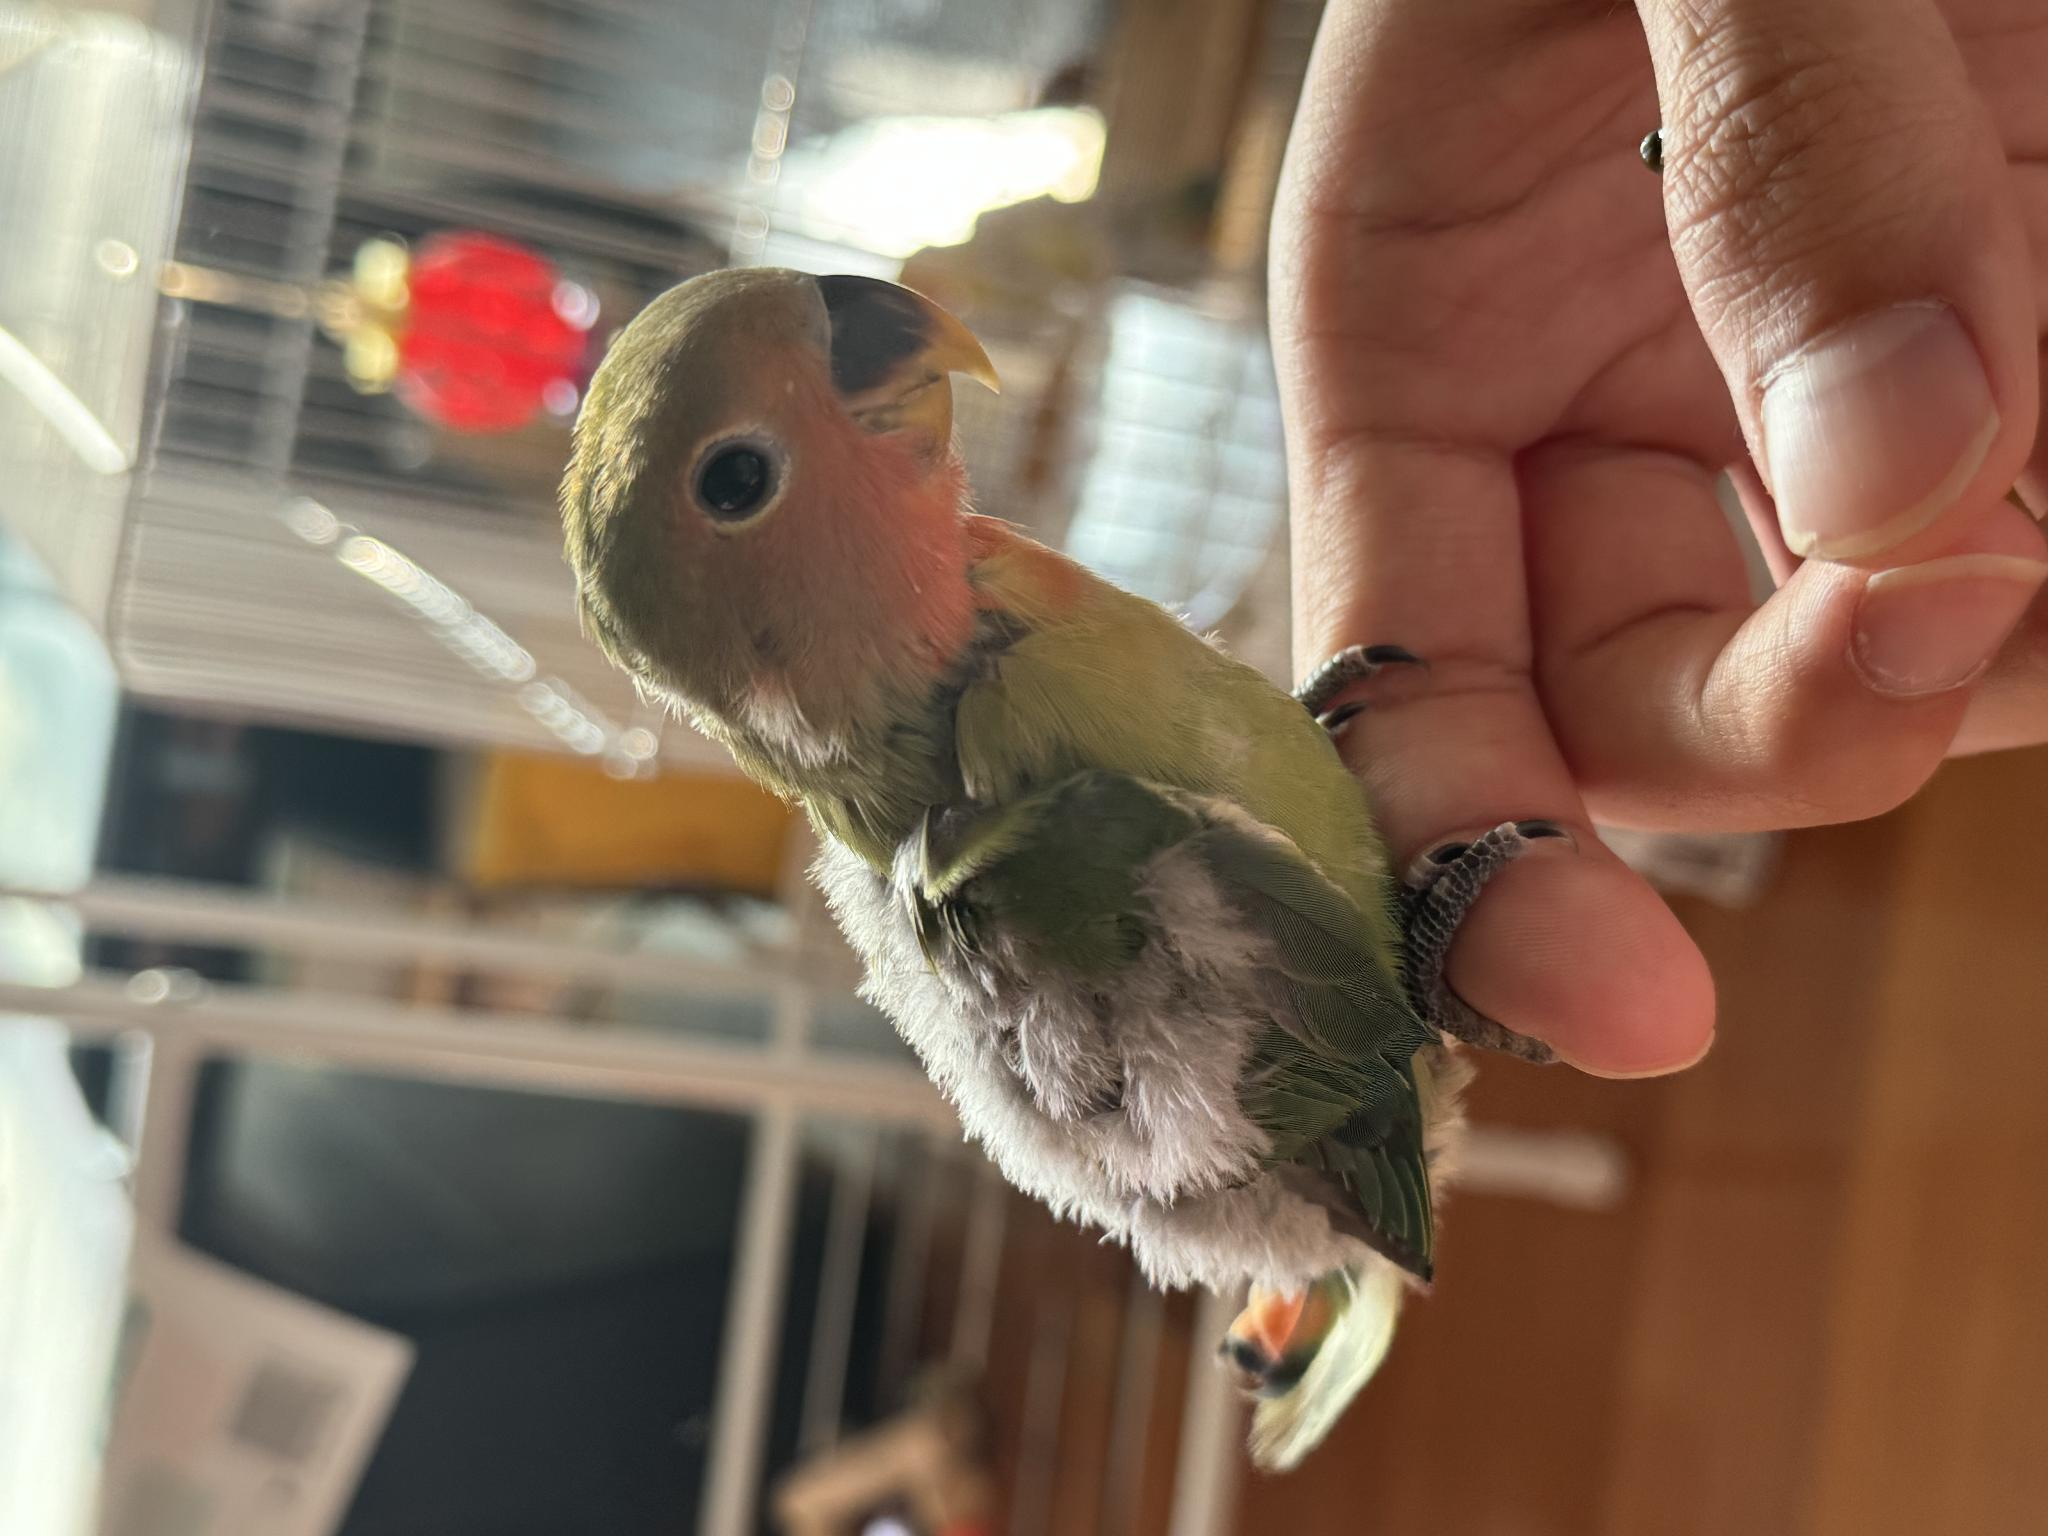bird: (71, 552, 1284, 1536)
